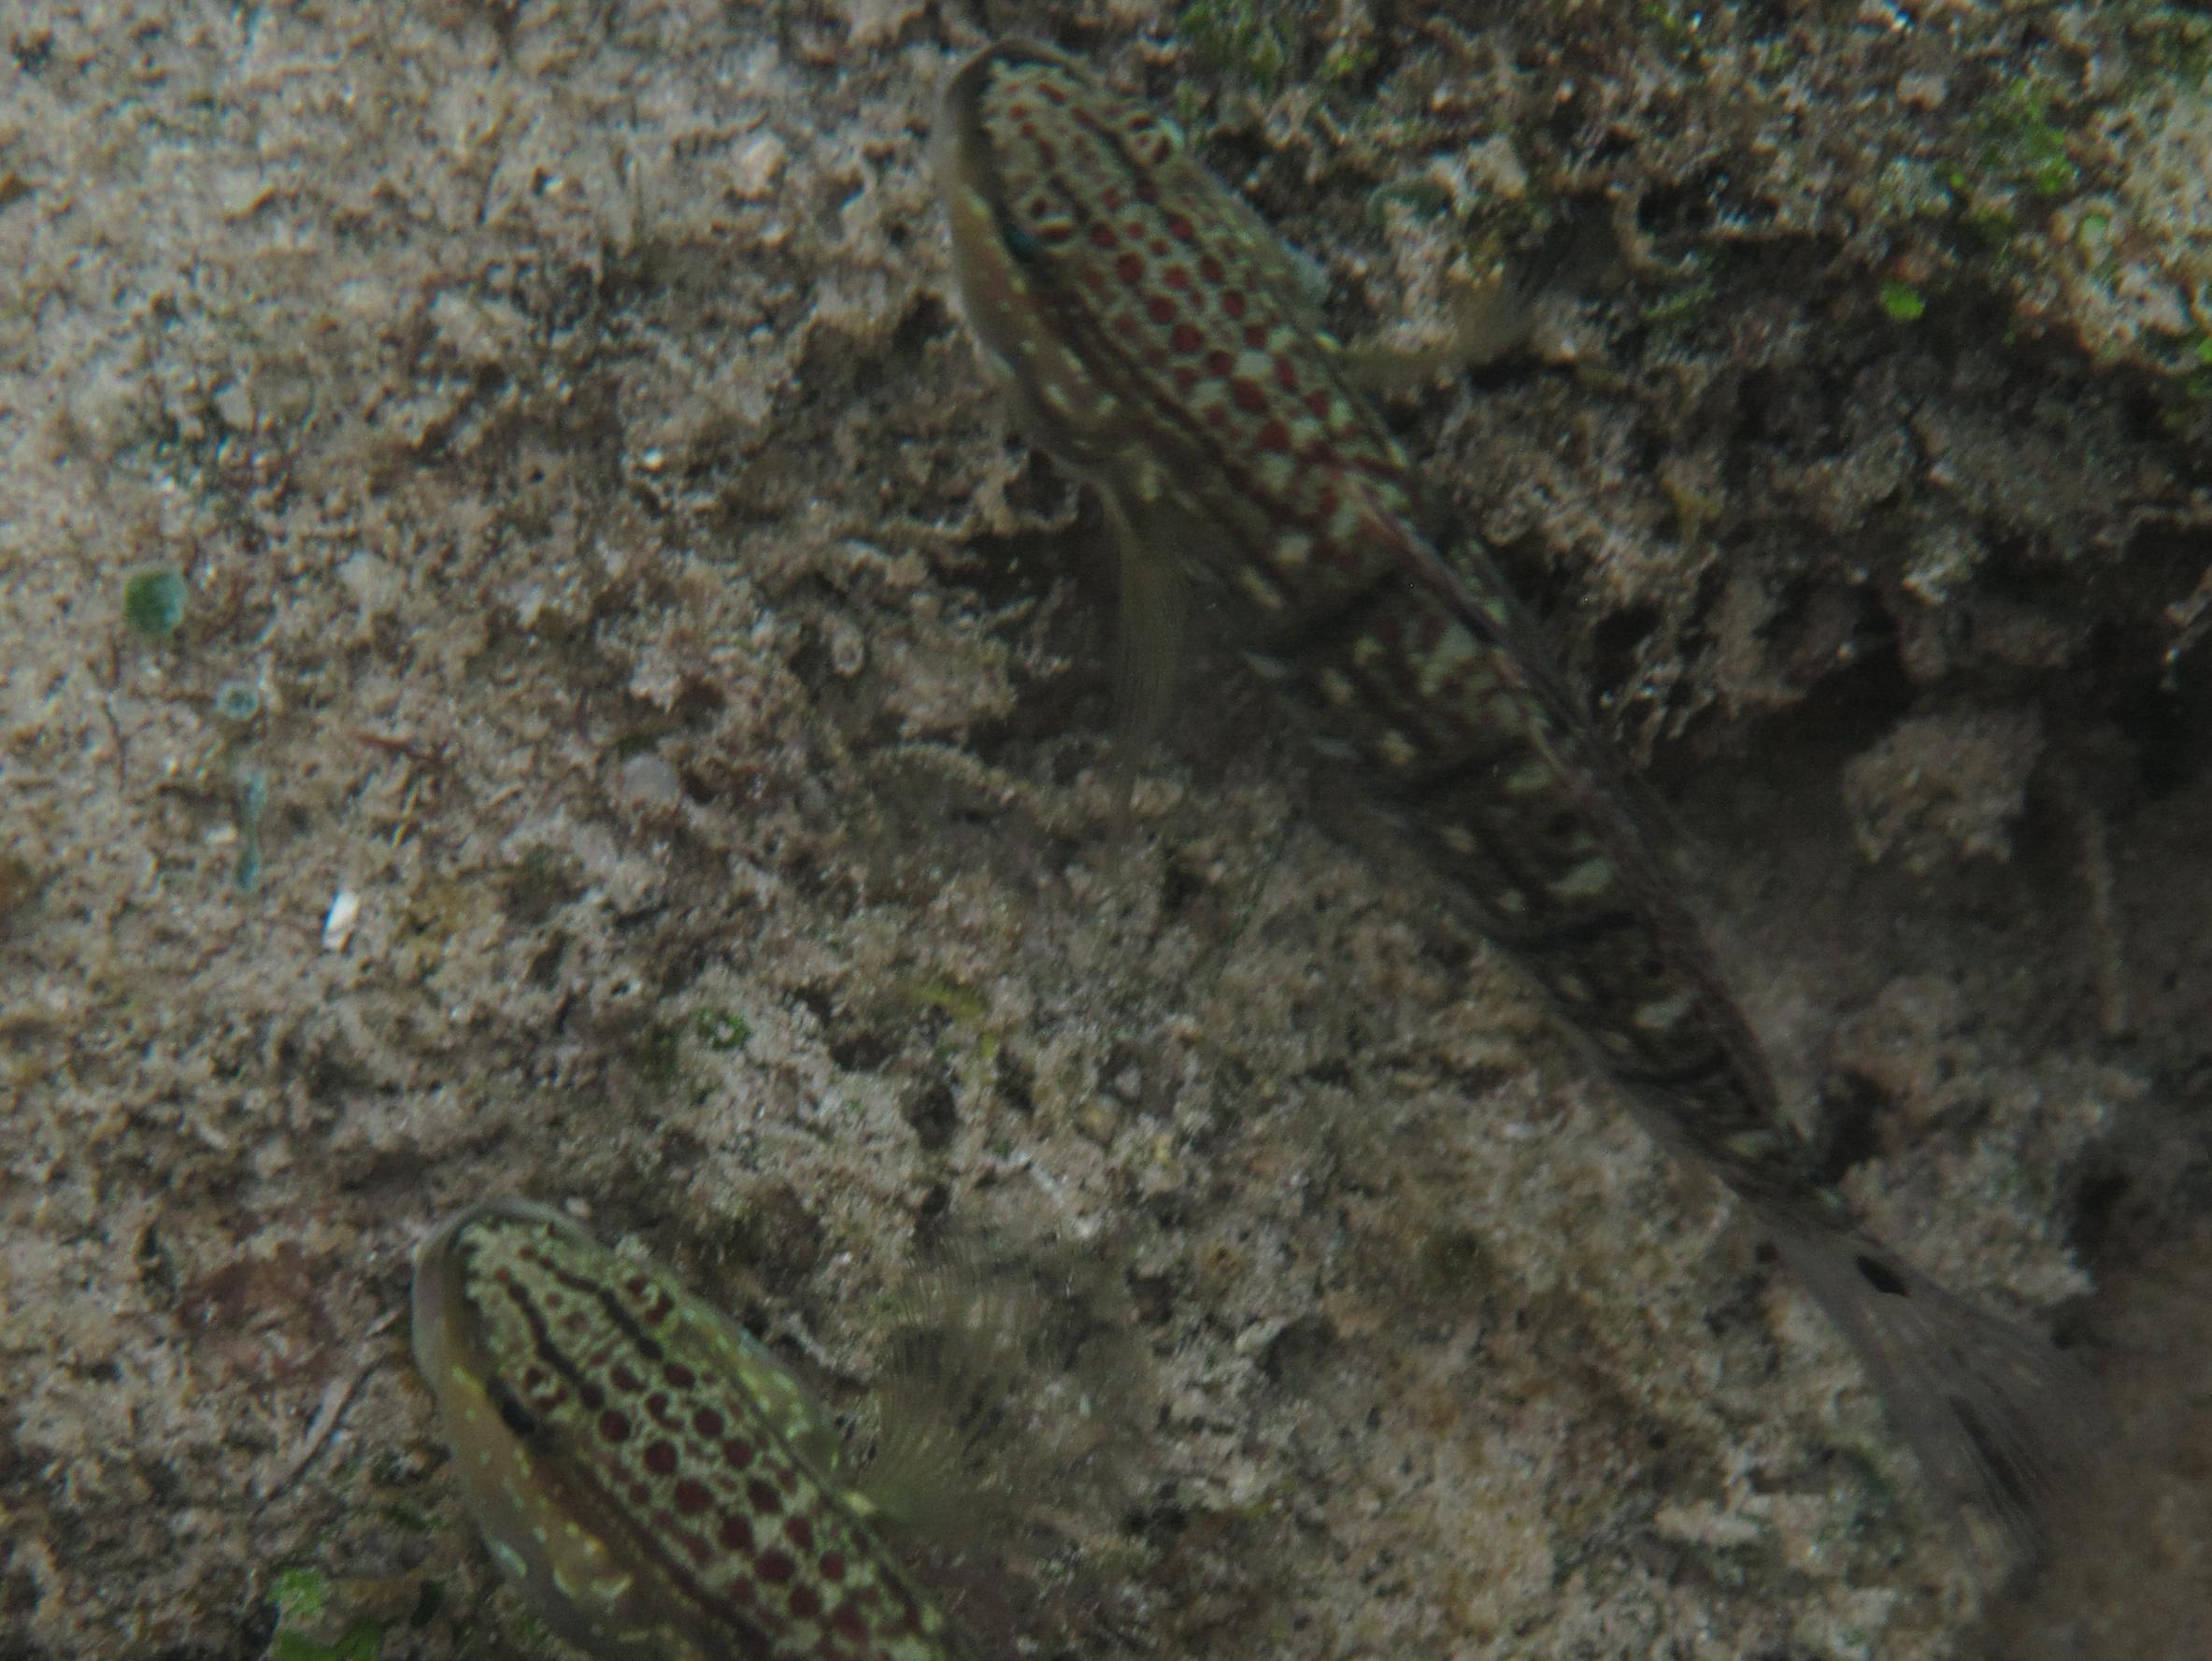Fish: (904, 14, 2212, 1596), (345, 1160, 1050, 1661)
